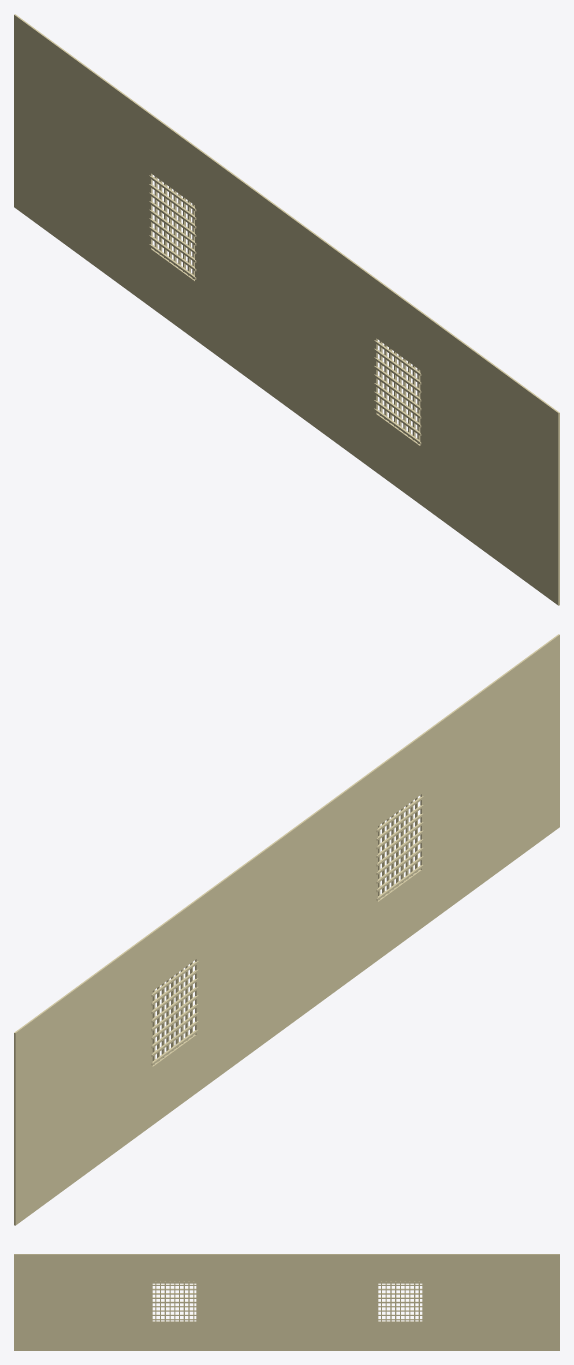
File: wall with window.glb
The picture shows the model from 3 angles, top to bottom: view 1: azimuth 30°, elevation 25°; view 2: azimuth 150°, elevation 25°; view 3: azimuth 270°, elevation 25°; orthographic projection. The views are drawn at different scales.
Parts seen in each view (by area): view 1: Cube.125; view 2: Cube.125; view 3: Cube.125.
Part boxes in pixels (x1,y1,x2,y2): Cube.125: (14,14,559,605); Cube.125: (14,634,559,1225); Cube.125: (14,1254,559,1350).
Size of the model in its own units: 3.96 by 189 by 968.
